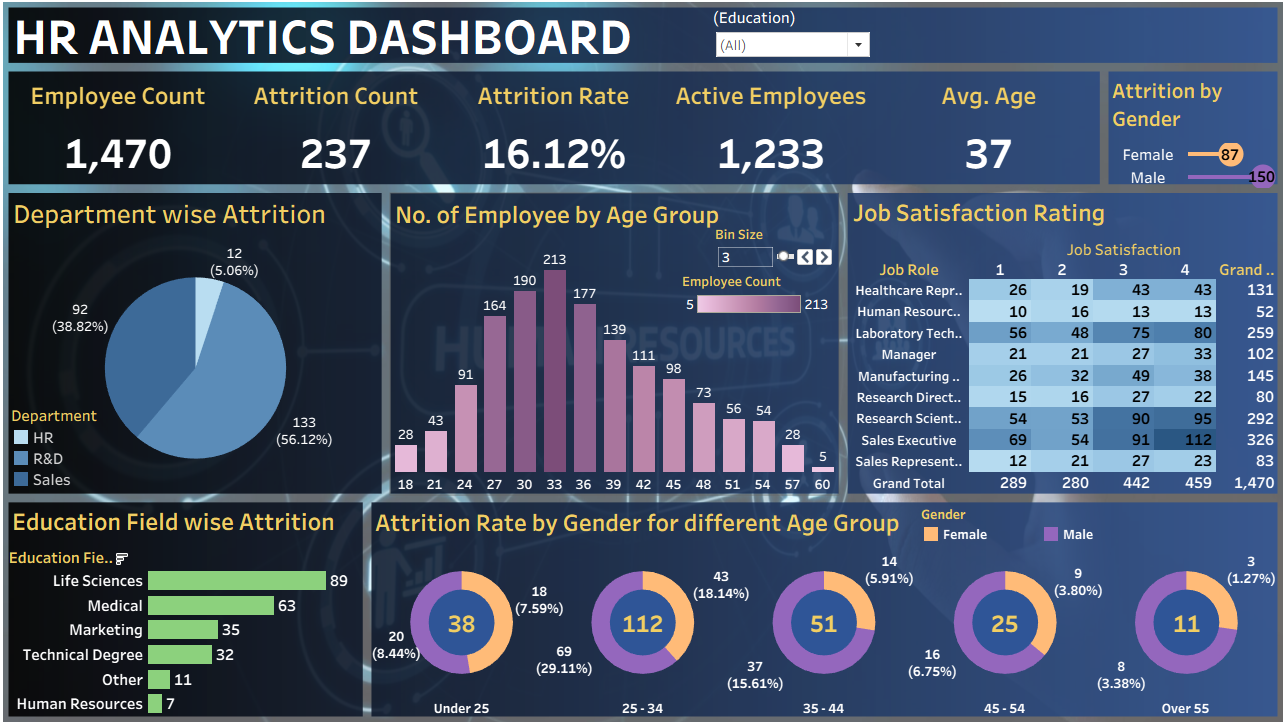

What the dashboard file says about the page in this screenshot:
{"tool":"tableau","page":{"name":"HR ANALYTICS DASHBOARD","canvas":[1580,900],"ordinal":0},"visuals":[{"type":"image","param":"C:/Users/achyu/Downloads/HR background.pptx.png","box":[8,8,1564,884]},{"type":"text","box":[19,17,637,56]},{"type":"filter","title":"Department wise Attrition","param":"[federated.0fwvt991bopcsn1bijk1d1csyqa7].[Action (Education)]","box":[722,17,160,55]},{"type":"worksheet","title":"KPI","mark":"Automatic","box":[18,81,1089,113]},{"type":"worksheet","title":"Attrition by Gender","mark":"Automatic","rows":["Gender"],"cols":["Calculation_1038361219240820737","Calculation_1038361219240820737"],"box":[1117,82,171,116]},{"type":"worksheet","title":"Department wise Attrition","mark":"Pie","box":[18,202,373,302]},{"type":"worksheet","title":"Job Satisfaction Rating","mark":"Square","rows":["Job Role"],"cols":["Job Satisfaction"],"box":[858,202,429,301]},{"type":"worksheet","title":"No. of Employee by Age Group","mark":"Automatic","rows":["Employee Count"],"cols":["Age (bin)"],"box":[400,204,447,300]},{"type":"parameter","param":"[Parameters].[Parameter 1]","box":[724,235,120,48]},{"type":"legend","title":"No. of Employee by Age Group","param":"[federated.0fwvt991bopcsn1bijk1d1csyqa7].[sum:Employee Count:qk]","box":[691,282,151,54]},{"type":"legend","title":"Department wise Attrition","param":"[federated.0fwvt991bopcsn1bijk1d1csyqa7].[none:Department:nk]","box":[20,415,108,87]},{"type":"worksheet","title":"Education Field wise Attrition","mark":"Automatic","rows":["Education Field"],"cols":["Calculation_1038361219240820737"],"box":[17,511,354,215]},{"type":"worksheet","title":"Attrition Rate by Gender for different Age Group","mark":"Pie","rows":["Calculation_1038361219308244999","Calculation_1038361219308244999"],"cols":["CF_age band"],"box":[380,512,906,216]},{"type":"legend","title":"Attrition Rate by Gender for different Age Group","param":"[federated.0fwvt991bopcsn1bijk1d1csyqa7].[none:Gender:nk]","box":[930,515,311,49]}]}

Visuals, with their boxes in screenshot pixels (x1, y1, x2, y2), scaled from the page's 1580x900 canvas onto the 1287x722 screenshot:
image: (7,6,1280,716)
text: (15,14,534,59)
"Department wise Attrition" filter: (588,14,718,58)
"KPI" worksheet: (15,65,902,156)
"Attrition by Gender" worksheet: (910,66,1049,159)
"Department wise Attrition" worksheet (Pie marks): (15,162,318,404)
"Job Satisfaction Rating" worksheet (Square marks): (699,162,1048,404)
"No. of Employee by Age Group" worksheet: (326,164,690,404)
parameter: (590,189,687,227)
"No. of Employee by Age Group" legend: (563,226,686,270)
"Department wise Attrition" legend: (16,333,104,403)
"Education Field wise Attrition" worksheet: (14,410,302,582)
"Attrition Rate by Gender for different Age Group" worksheet (Pie marks): (310,411,1048,584)
"Attrition Rate by Gender for different Age Group" legend: (758,413,1011,452)
